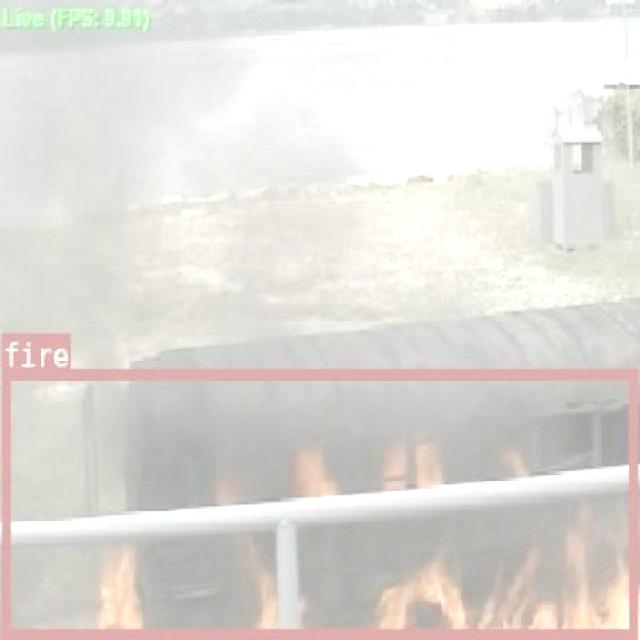fire: (0, 368, 635, 636)
